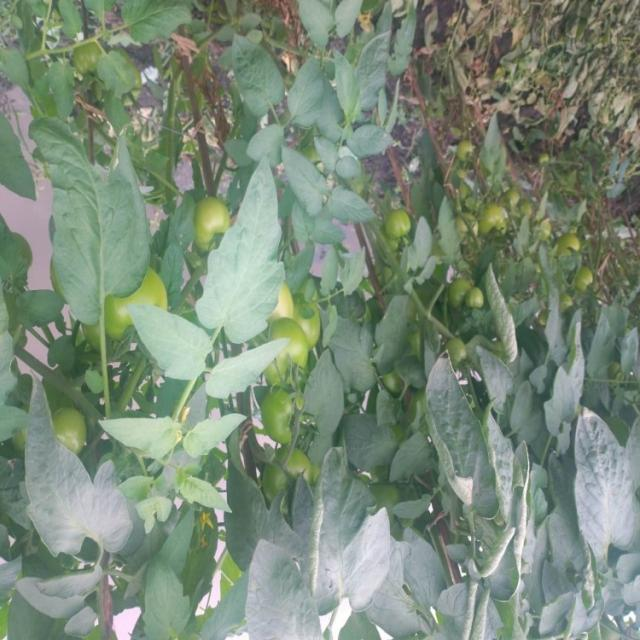tomato: (269, 312, 320, 375), (187, 189, 240, 244), (261, 384, 309, 443), (129, 267, 163, 309), (564, 261, 600, 300), (477, 205, 510, 237), (453, 273, 482, 307), (554, 227, 582, 254), (457, 133, 480, 163), (380, 208, 406, 231)
